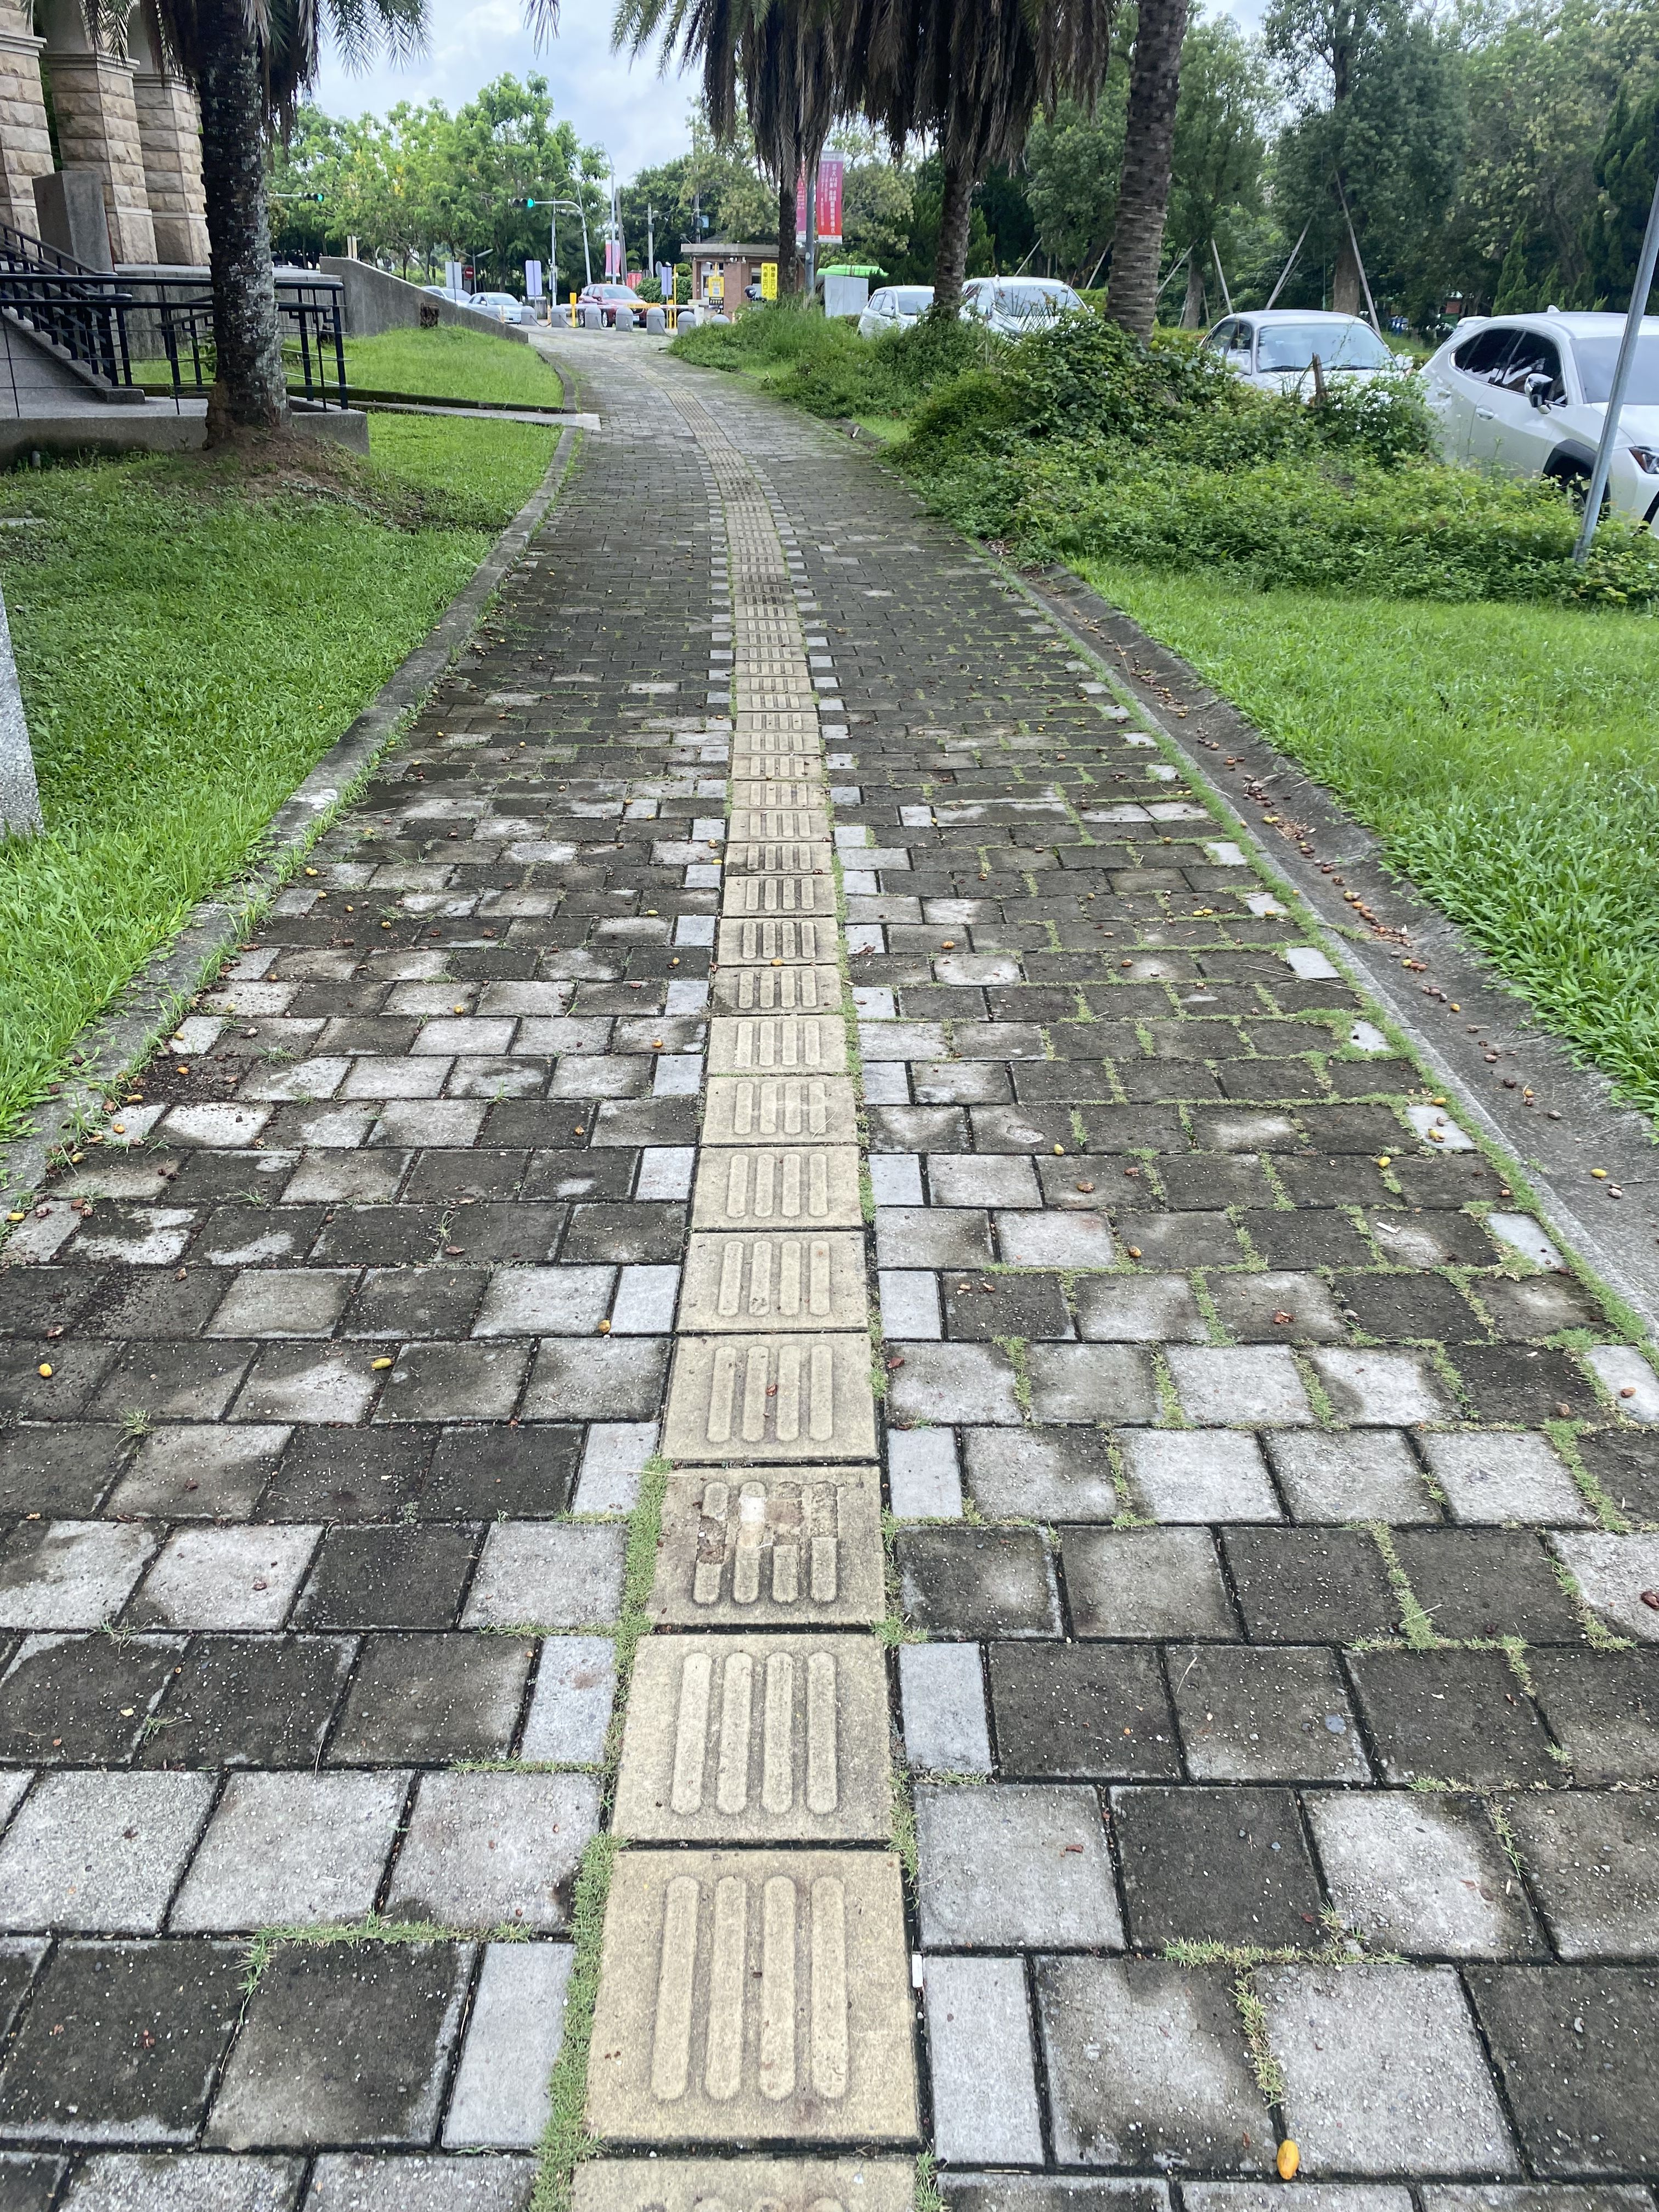0: (7, 702, 1659, 2212)
sidewalk: (476, 293, 1319, 1341)
